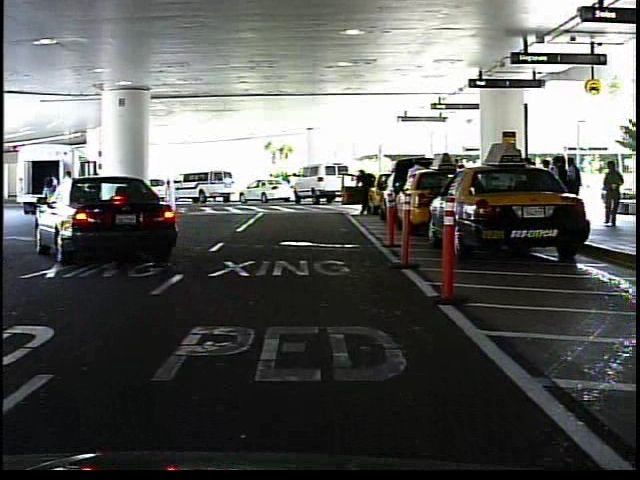person: (601, 159, 627, 227), (354, 163, 376, 219), (281, 169, 292, 197), (266, 171, 276, 179)
